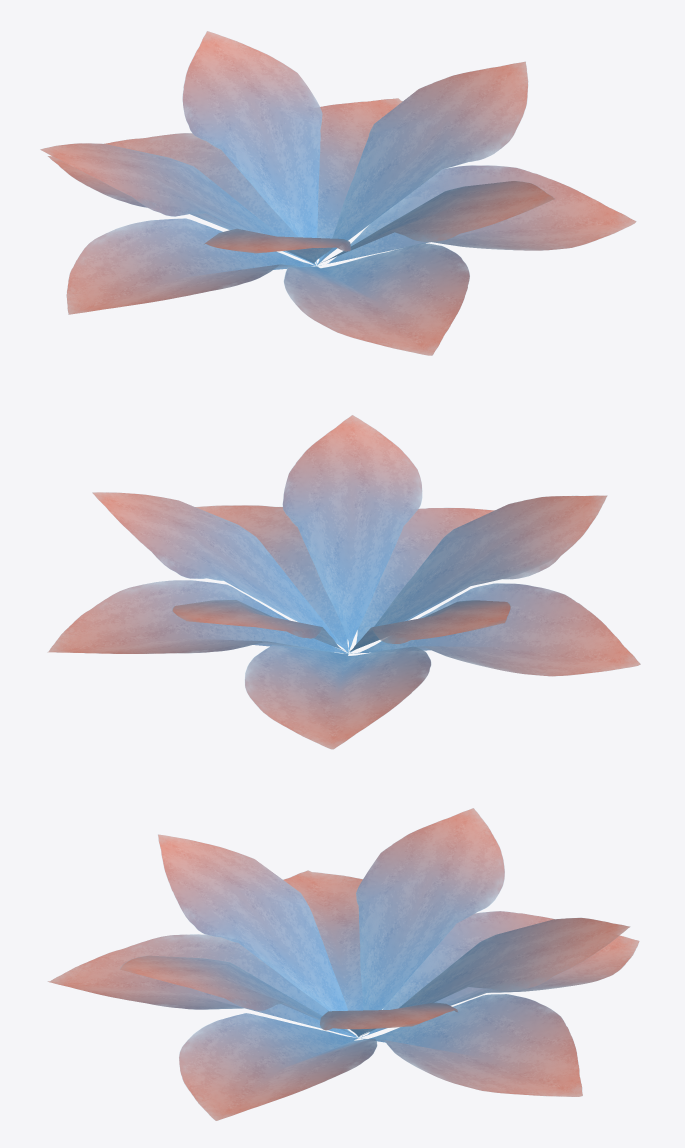
Rendered from flower.glb.
3 renders of one model, top to bottom at view 1: azimuth 30°, elevation 25°; view 2: azimuth 150°, elevation 25°; view 3: azimuth 270°, elevation 25°, orthographic. The views are drawn at different scales.
Parts seen in each view (by area): view 1: pPlane1; view 2: pPlane1; view 3: pPlane1.
Part boxes in pixels (x1=…): pPlane1: x1=40, y1=31, x2=636, y2=355; pPlane1: x1=47, y1=415, x2=640, y2=749; pPlane1: x1=47, y1=808, x2=639, y2=1120.
Size of the model in its own units: 0.0269 by 0.00596 by 0.027.
1 material, 1 textured.
